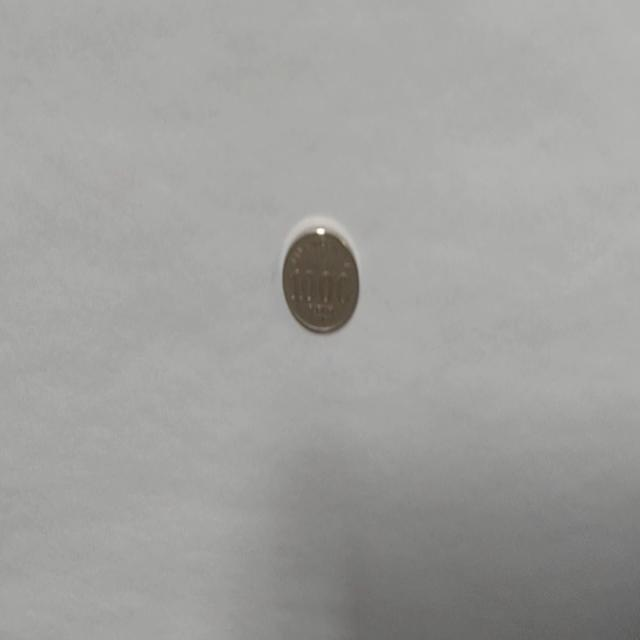seribu rupiah koin: (280, 214, 360, 336)
